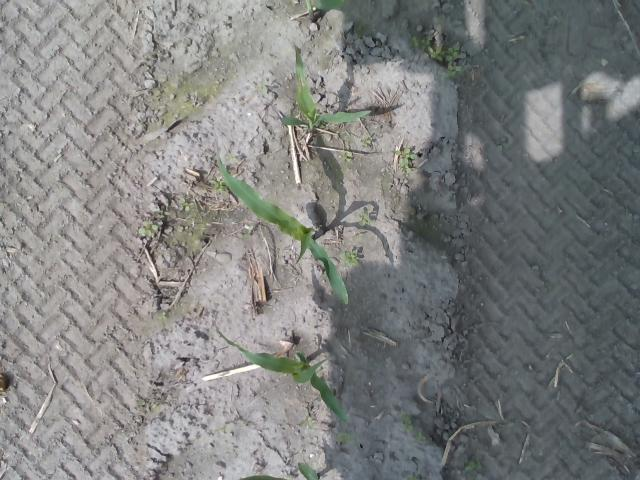Maize: (213, 156, 349, 308), (210, 318, 350, 422), (276, 43, 372, 132), (236, 461, 322, 480), (304, 0, 345, 23)
Weeds: (393, 145, 417, 174), (426, 46, 458, 64), (138, 218, 158, 236), (410, 34, 432, 49), (446, 61, 465, 78), (341, 250, 360, 267), (334, 430, 352, 445), (401, 412, 414, 432), (464, 460, 484, 473), (180, 197, 191, 213), (359, 211, 369, 226), (340, 150, 352, 162), (361, 136, 372, 148), (215, 180, 225, 191), (158, 311, 168, 320), (416, 432, 424, 440)
